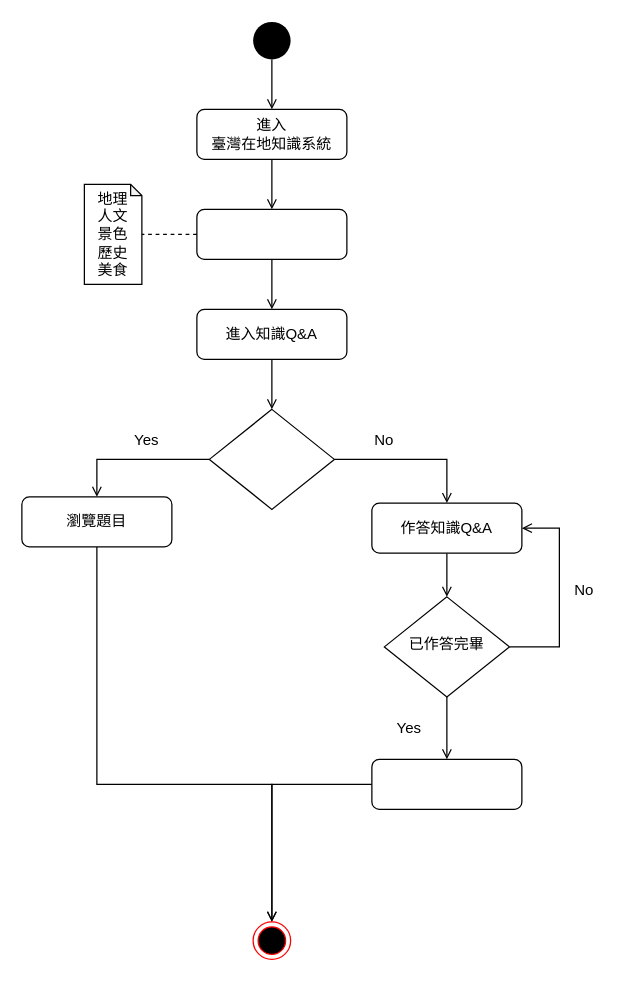
Some shapes in this 644 by 981 pixel diagram are drawn without their labels. Here are the shapes that lost their labels. From the top down, the centre of each, then its label:
(271,233): 顯示臺灣各地知識
(271,458): 已作答過
(446,783): 計算積分
